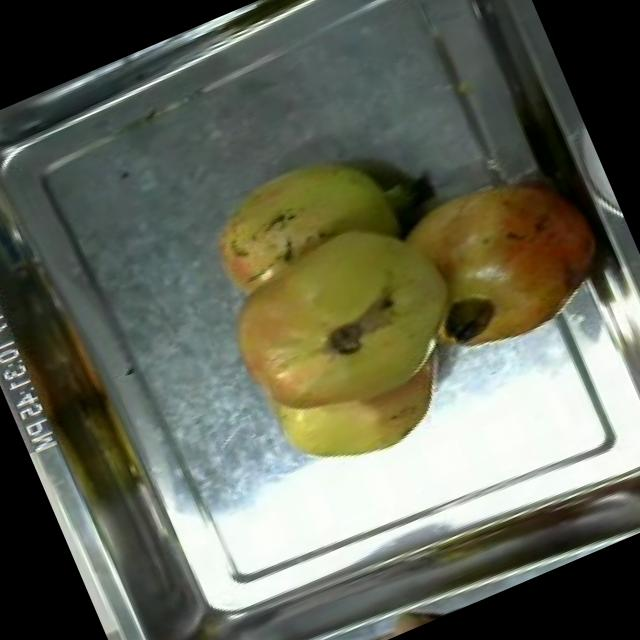fruit: (192, 177, 514, 504), (390, 140, 628, 370), (180, 111, 433, 312)
